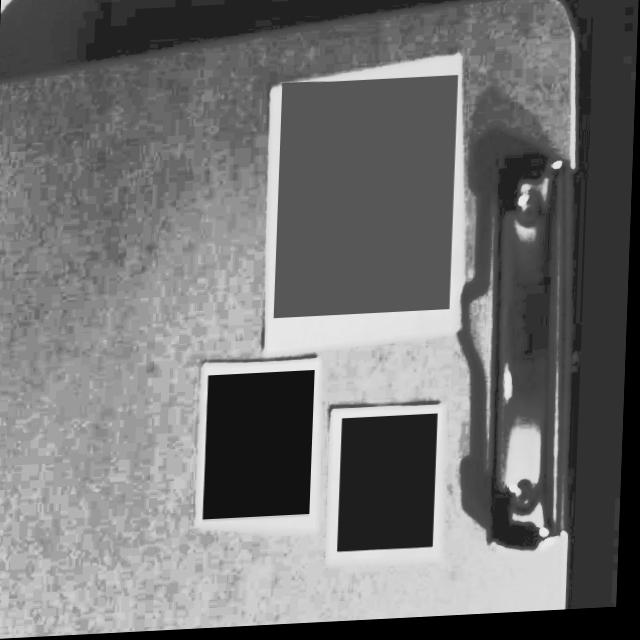qr_code: (275, 80, 458, 321), (205, 374, 317, 524), (340, 418, 440, 556)
